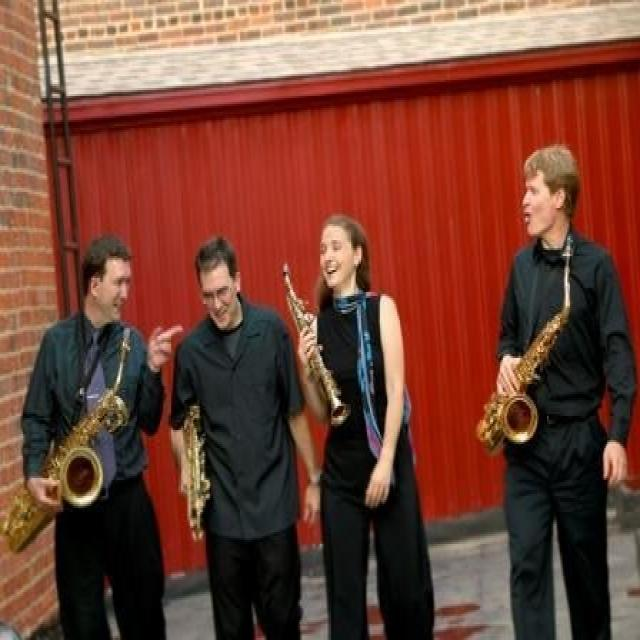saxophone: (4, 327, 135, 556), (474, 231, 579, 448)
